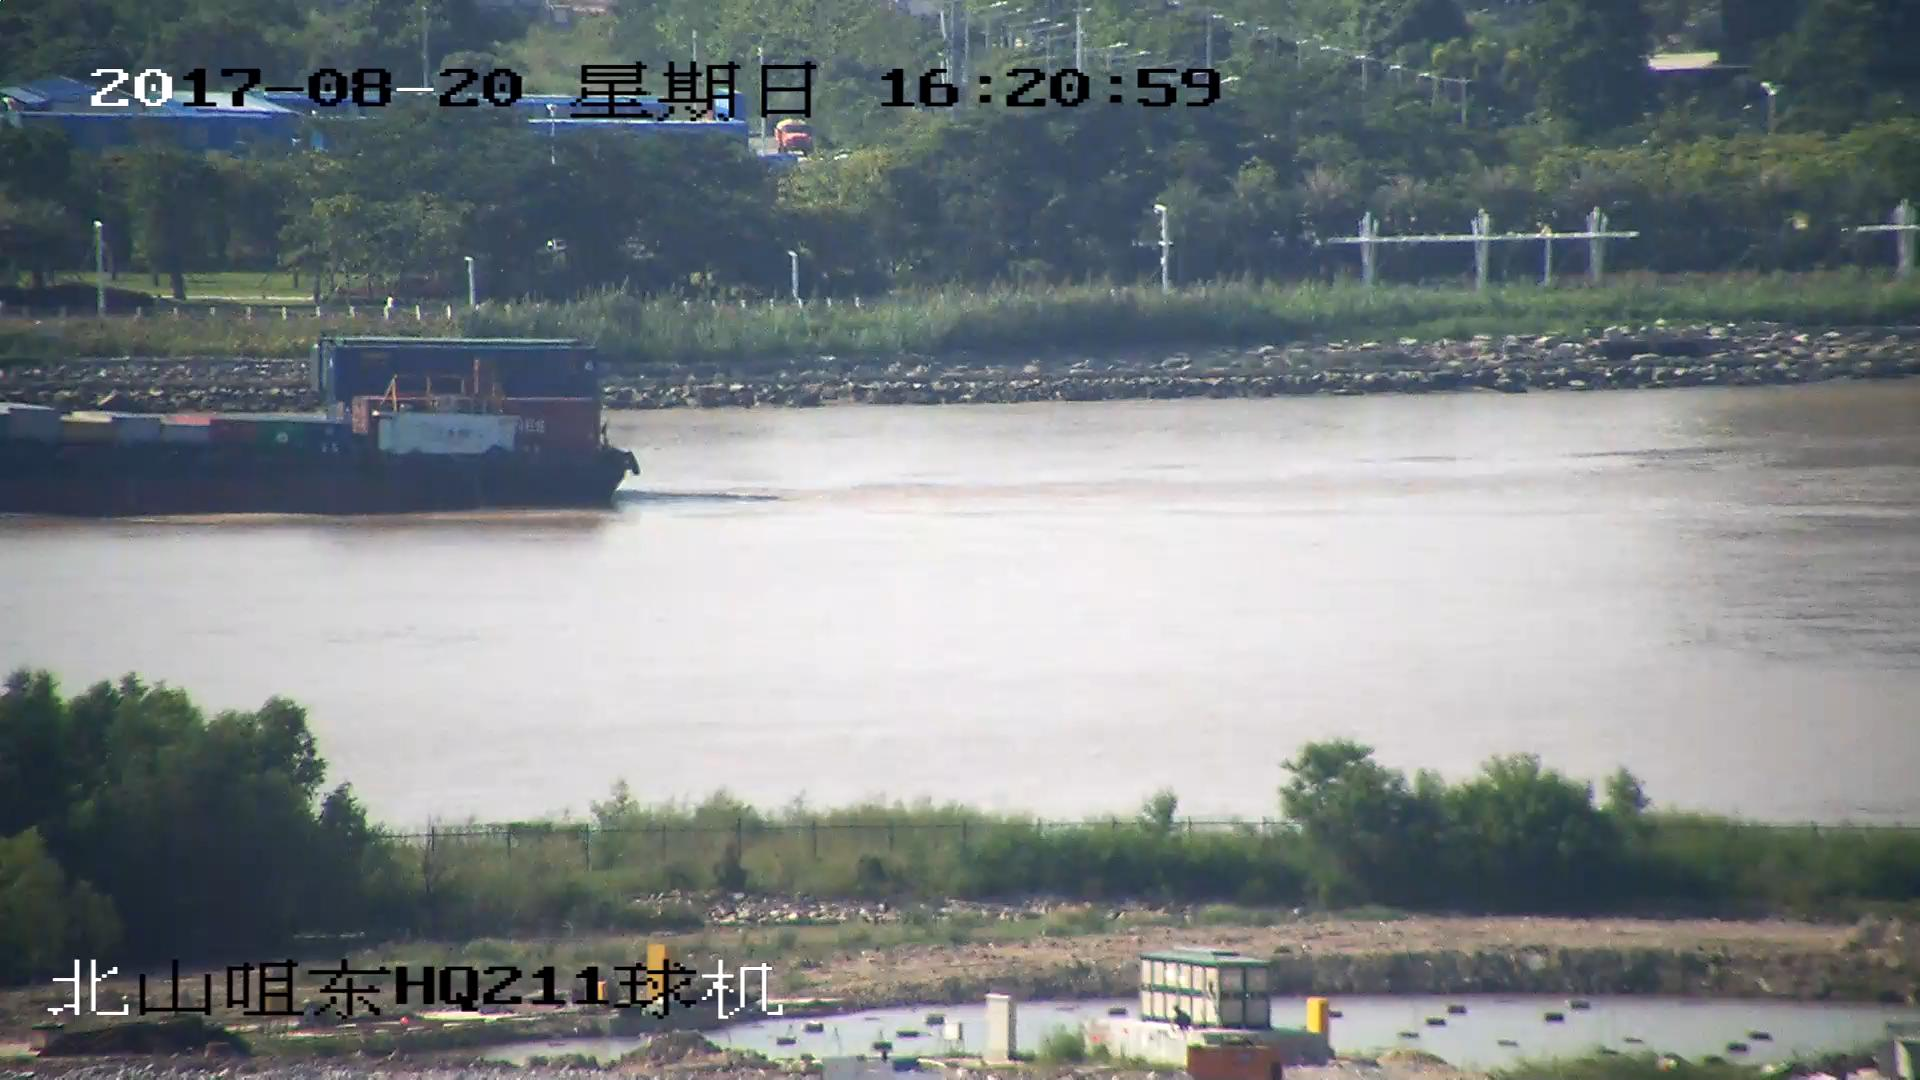container ship: (1, 338, 637, 512)
